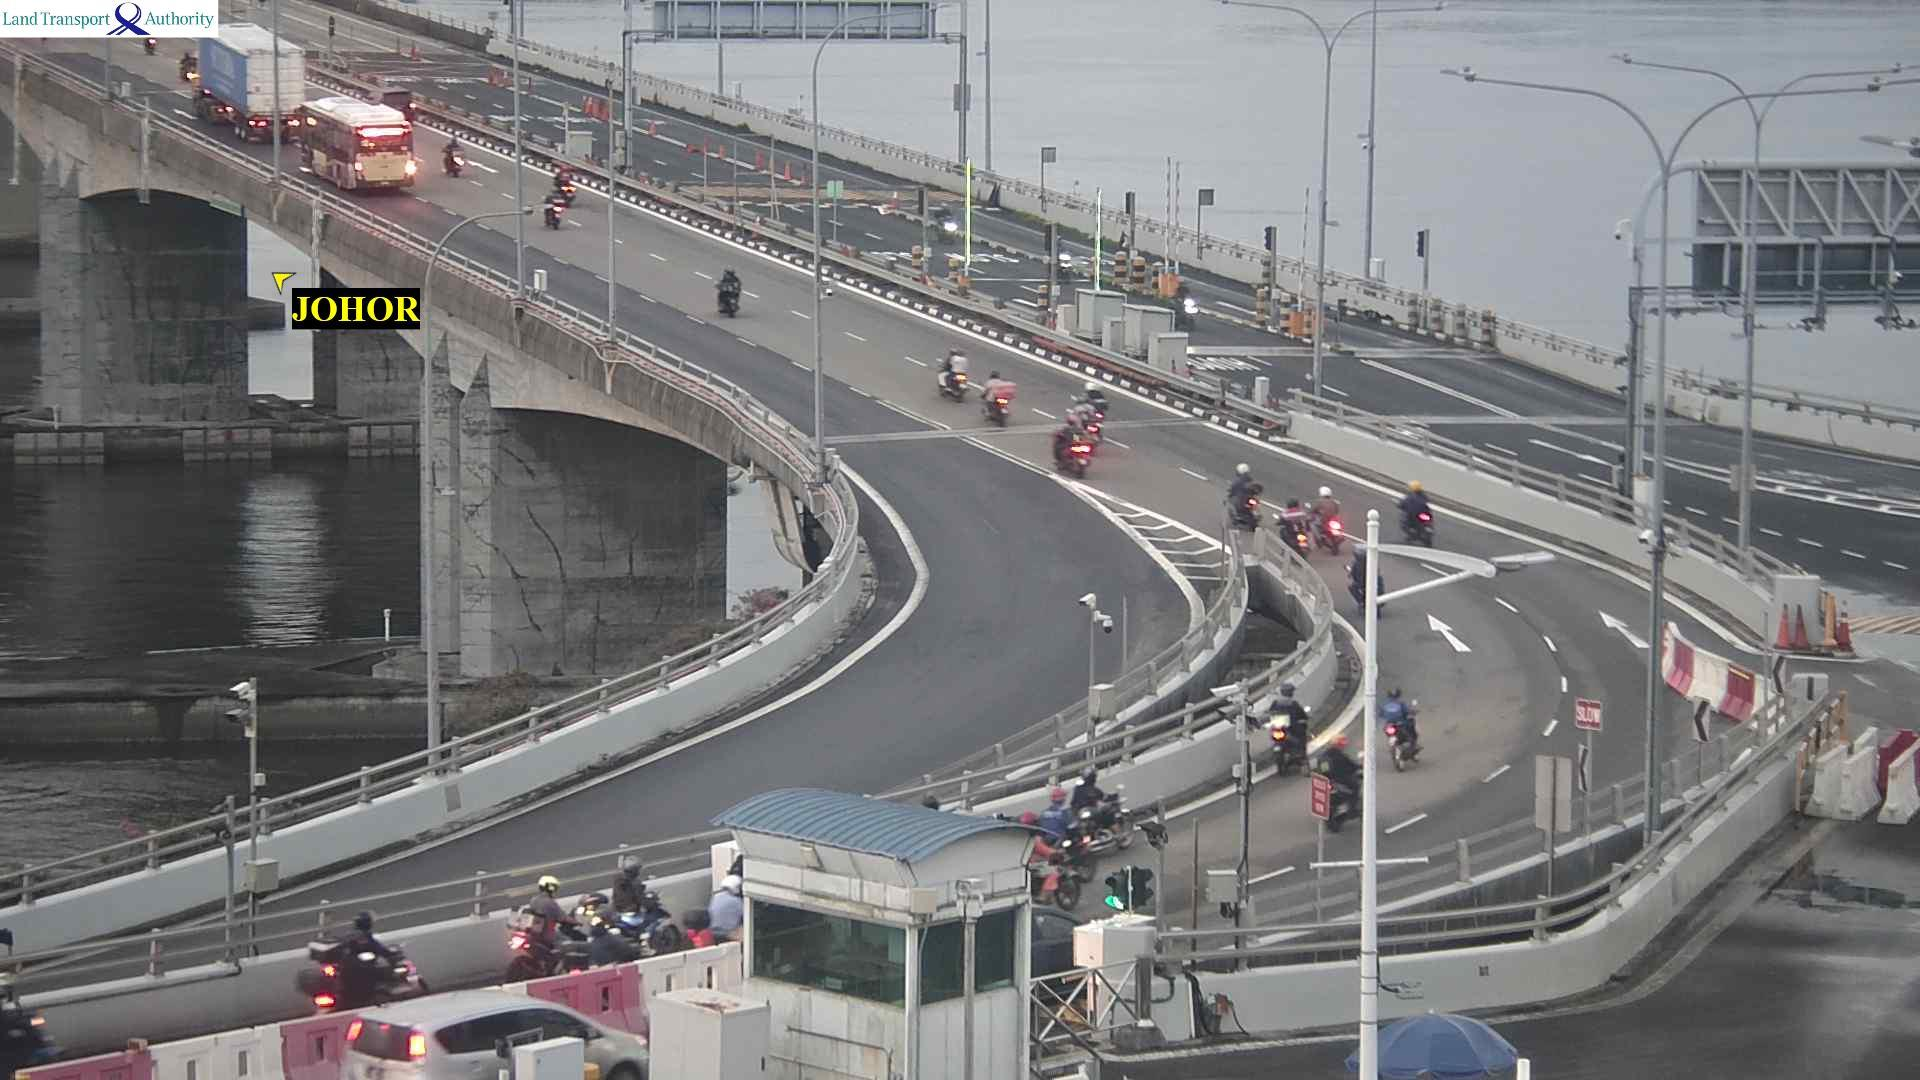vehicle-secondlink-johor: (343, 992, 640, 1069), (514, 884, 671, 977), (189, 40, 320, 148), (297, 914, 425, 1011), (309, 103, 433, 195), (1013, 774, 1130, 868), (584, 865, 678, 947), (1064, 777, 1154, 858), (504, 898, 589, 978), (1312, 741, 1374, 832), (0, 990, 57, 1073), (1262, 696, 1319, 770), (1375, 687, 1425, 766), (1386, 488, 1444, 546), (1059, 422, 1105, 484), (1225, 462, 1259, 529), (554, 175, 591, 236), (708, 269, 750, 319), (935, 349, 977, 400), (1309, 487, 1340, 545), (978, 375, 1017, 418), (1280, 500, 1307, 549), (447, 138, 473, 178), (1080, 382, 1108, 411)
